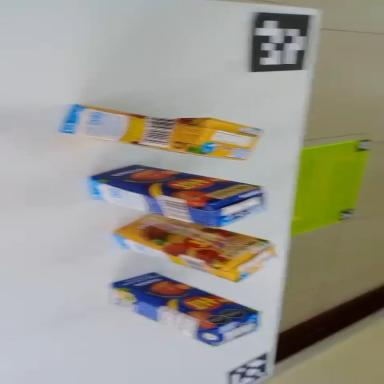HIT-MANGO: (103, 259, 262, 359), (85, 156, 266, 235)
HIT-MORA: (110, 206, 278, 289), (59, 99, 262, 162)
